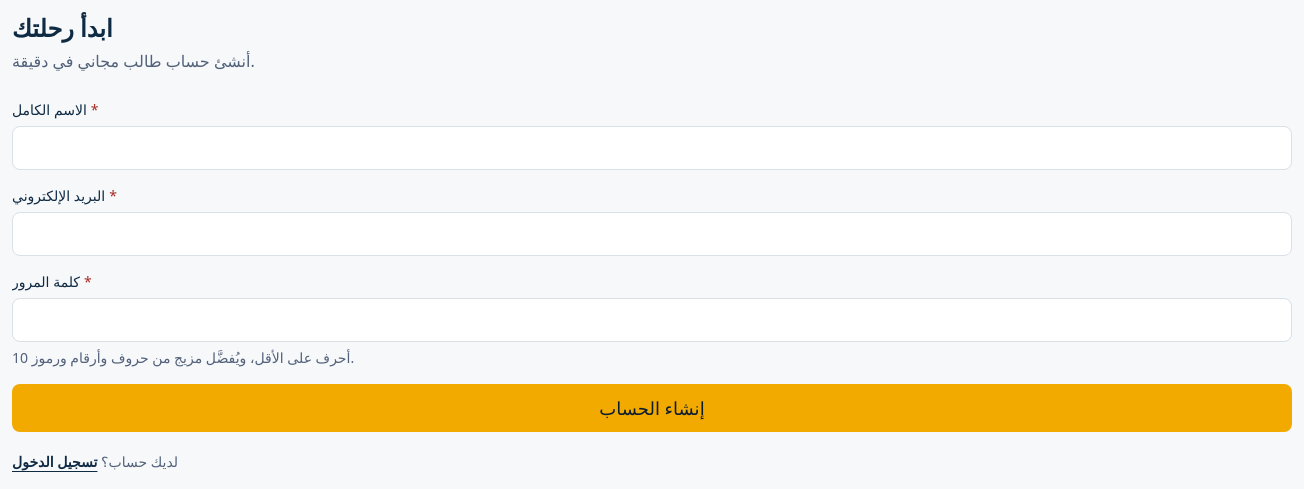
Test: RegisterForm › rejects a short password client-side
The width and height of the screenshot is (1304, 489).
Type "سارة أحمد" into the field labelled "الاسم الكامل*" at [652, 148], box [12, 126, 1292, 170]
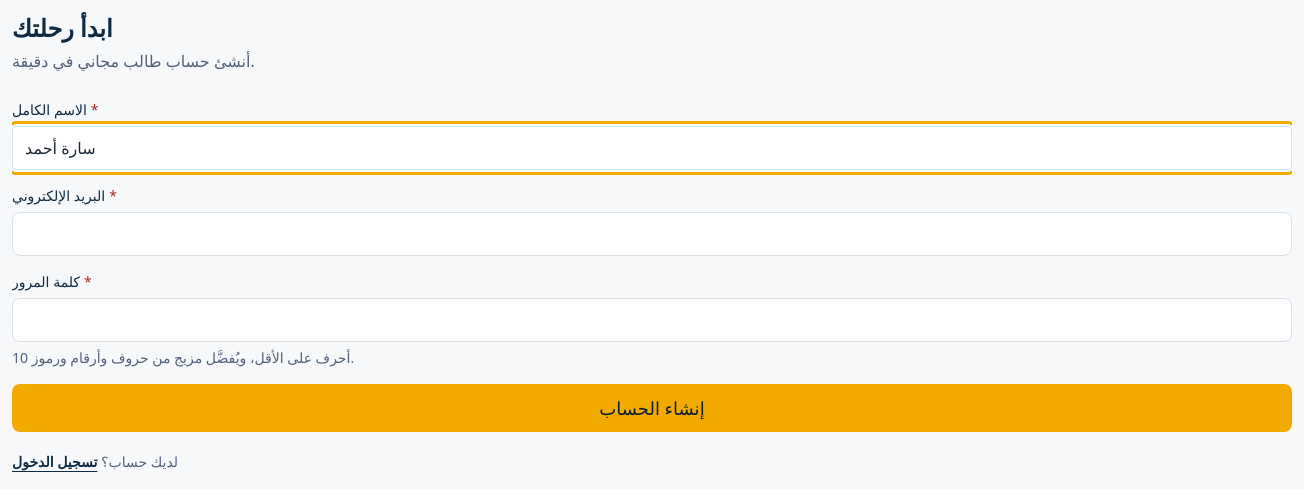
Type "sara@example.com" into the field labelled "البريد الإلكتروني*" at [652, 234], box [12, 212, 1292, 256]
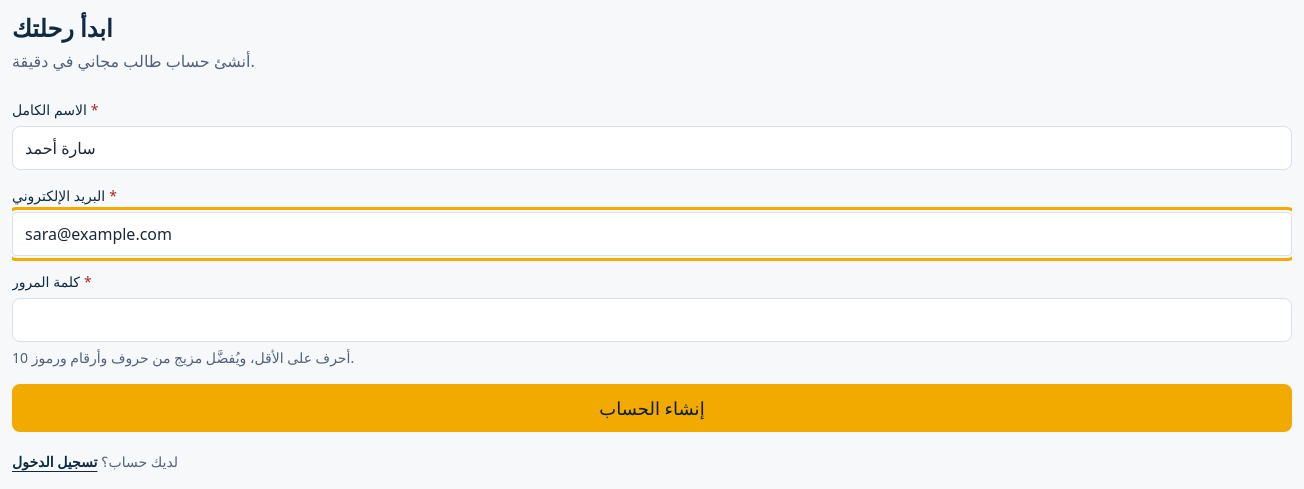
Type "short" into the password field labelled "كلمة المرور*" at [652, 320], box [12, 298, 1292, 342]
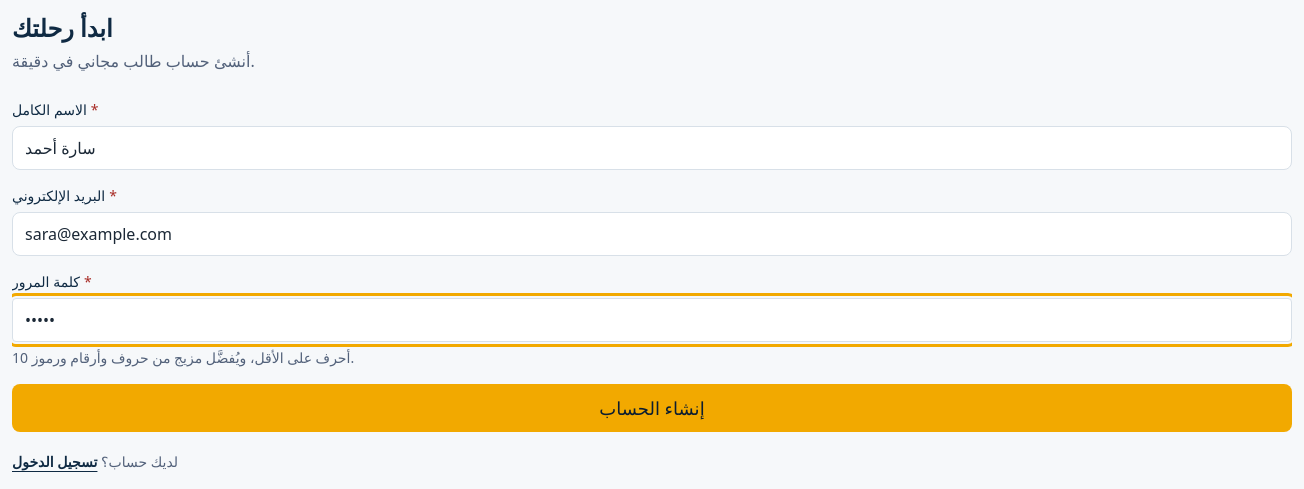
Click the button "إنشاء الحساب" at [652, 408], box [12, 384, 1292, 432]
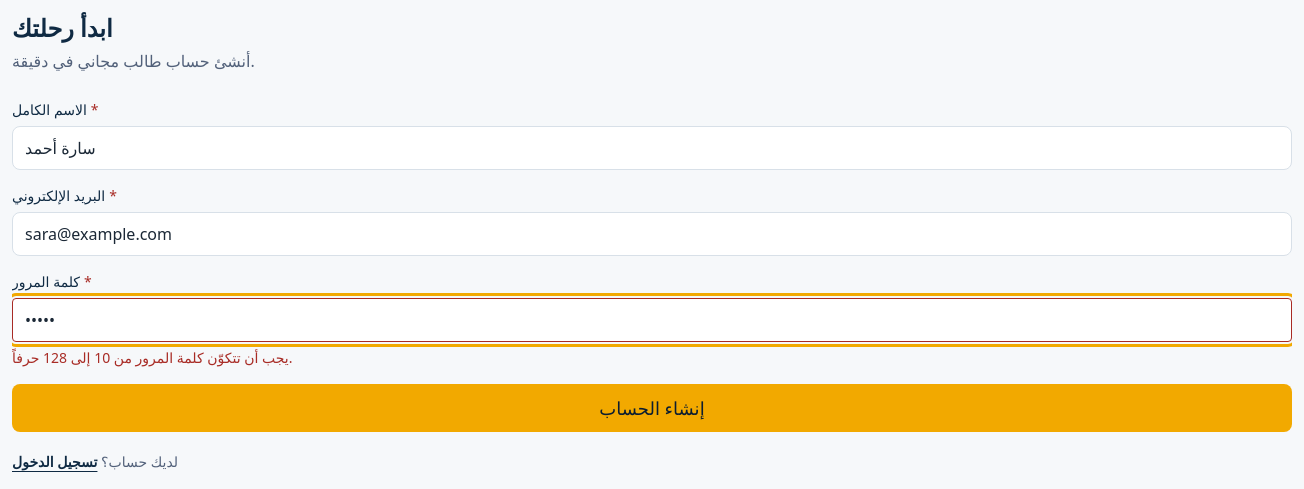
Result: the text "يجب أن تتكوّن كلمة المرور من 10 إلى 128 حرفاً." is shown at [12, 348, 292, 367]
